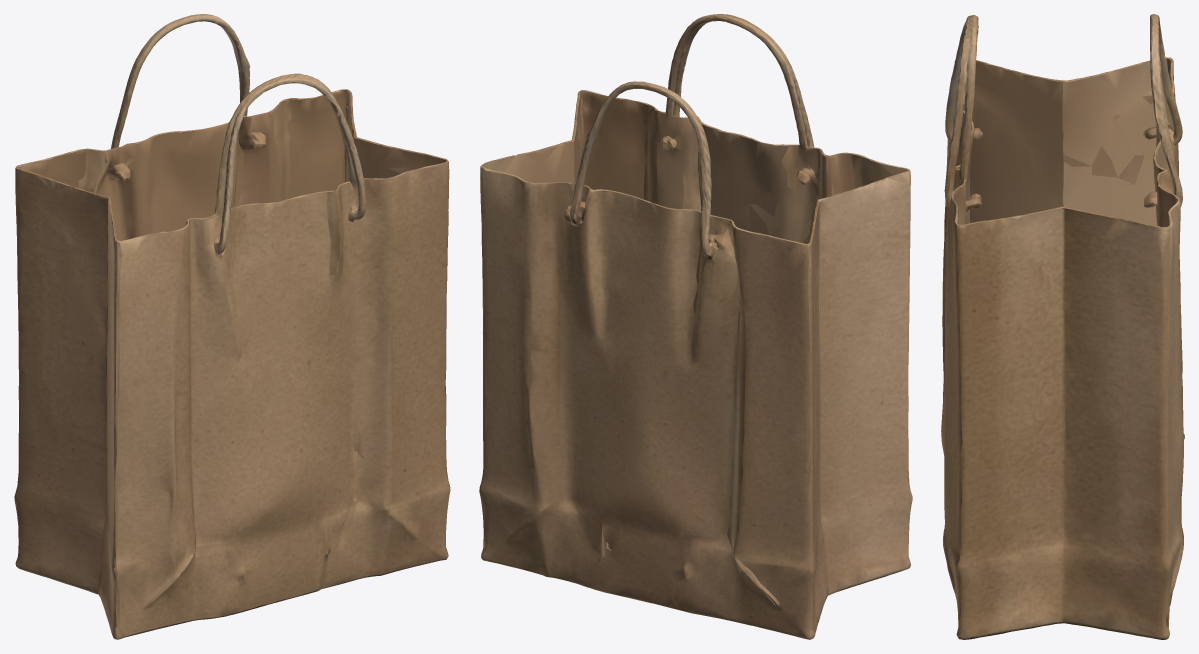
File: paper-bag.glb
The picture shows the model from 3 angles, left to right: view 1: azimuth 30°, elevation 25°; view 2: azimuth 150°, elevation 25°; view 3: azimuth 270°, elevation 25°; orthographic projection. The views are drawn at different scales.
Visible parts, largest first — view 1: geometry_0; view 2: geometry_0; view 3: geometry_0.
Boxes of the visible parts, <box> form: geometry_0: <box>14,14,450,639</box>; geometry_0: <box>479,14,912,639</box>; geometry_0: <box>941,14,1184,639</box>.
Bounding box in the file's own units: 0.2722 × 0.4 × 0.1641.
1 material, 1 textured.
